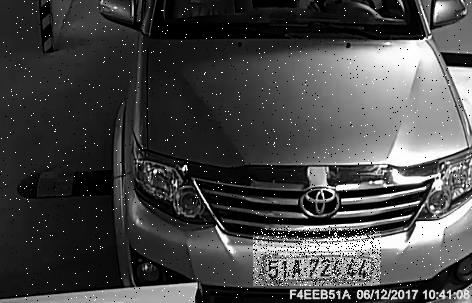License-plate: (255, 229, 383, 287)
